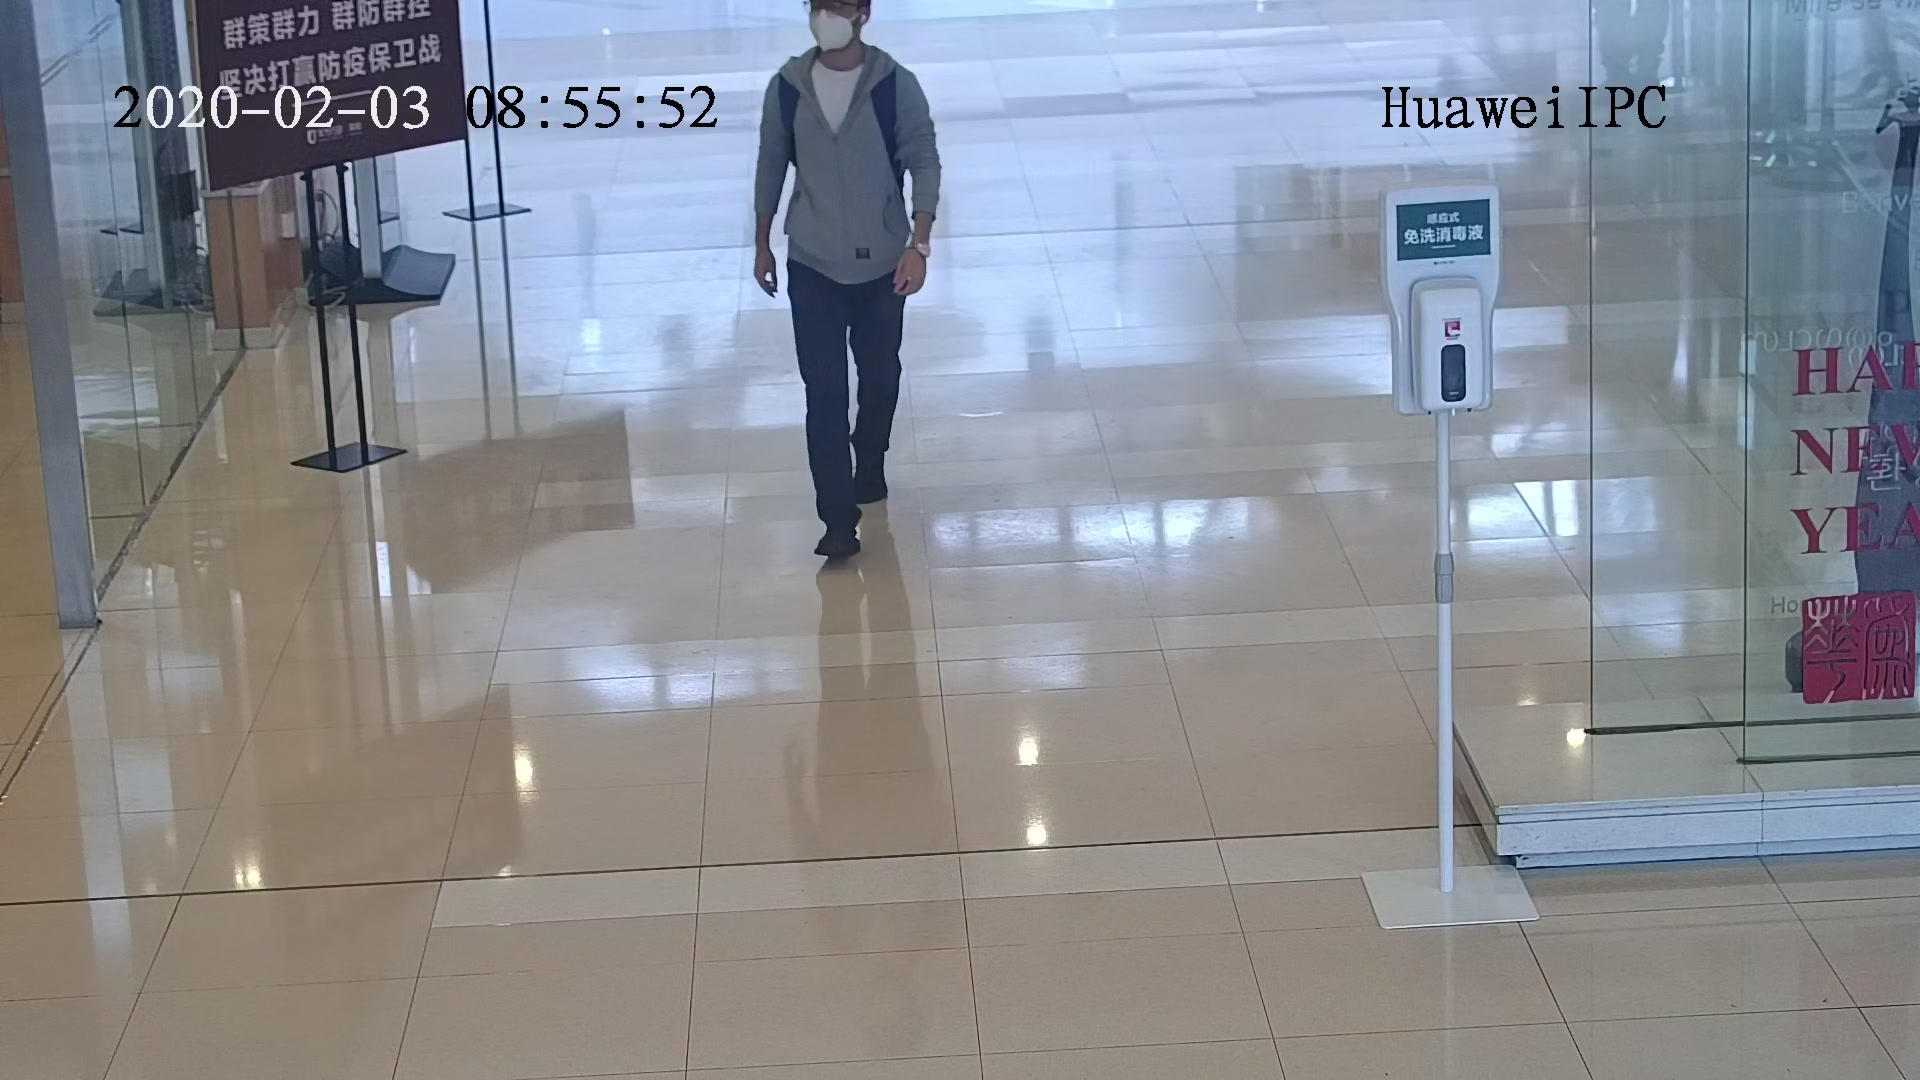mask: (807, 10, 858, 54)
person: (768, 4, 924, 110)
